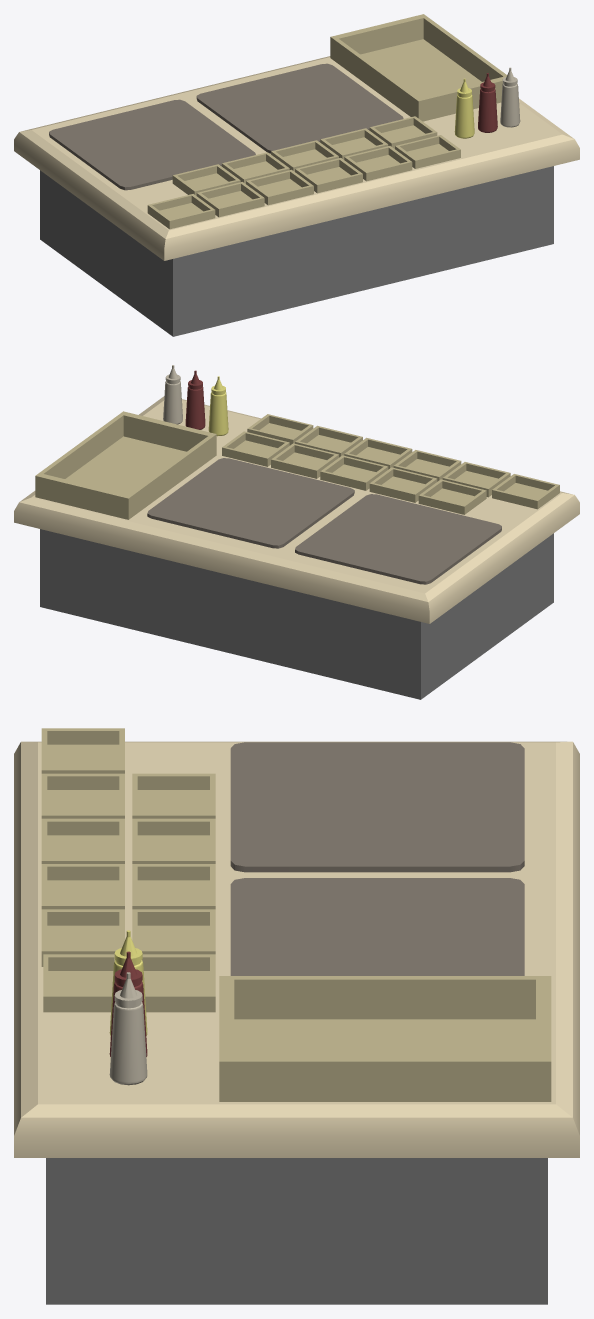
Rendered from obj_Mesa_preparacion.fbx.
3 renders of one model, top to bottom at view 1: azimuth 30°, elevation 25°; view 2: azimuth 150°, elevation 25°; view 3: azimuth 270°, elevation 25°, orthographic. The views are drawn at different scales.
Parts seen in each view (by area): view 1: mesa, contenedor_panes, tabla_preparacion1, tabla_preparacion, contenedor_misc10, contenedor_misc9, contenedor_misc3, contenedor_misc7, contenedor_misc5, contenedor_misc, contenedor_misc8, contenedor_misc1 (+6 smaller); view 2: mesa, contenedor_panes, tabla_preparacion, tabla_preparacion1, contenedor_misc8, contenedor_misc10, contenedor_misc6, contenedor_misc4, contenedor_misc2, contenedor_misc1, contenedor_misc9, contenedor_misc5 (+6 smaller); view 3: mesa, contenedor_panes, tabla_preparacion1, tabla_preparacion, contenedor_misc1, contenedor_misc, contenedor_misc4, contenedor_misc6, contenedor_misc8, contenedor_misc10, contenedor_misc5, contenedor_misc7 (+6 smaller).
Part boxes in pixels (left/top/right/bottom): mesa: left=14, top=56, right=579, bottom=336; contenedor_panes: left=330, top=14, right=507, bottom=121; tabla_preparacion1: left=49, top=99, right=255, bottom=190; tabla_preparacion: left=196, top=63, right=403, bottom=153; contenedor_misc10: left=147, top=194, right=215, bottom=229; contenedor_misc9: left=196, top=182, right=264, bottom=217; contenedor_misc3: left=344, top=146, right=412, bottom=181; contenedor_misc7: left=246, top=169, right=313, bottom=205; contenedor_misc5: left=295, top=158, right=362, bottom=193; contenedor_misc: left=395, top=135, right=460, bottom=168; contenedor_misc8: left=172, top=164, right=240, bottom=195; contenedor_misc1: left=369, top=116, right=437, bottom=148; mesa: left=14, top=396, right=579, bottom=699; contenedor_panes: left=35, top=411, right=216, bottom=519; tabla_preparacion: left=147, top=458, right=354, bottom=548; tabla_preparacion1: left=295, top=494, right=501, bottom=584; contenedor_misc8: left=418, top=479, right=486, bottom=514; contenedor_misc10: left=492, top=474, right=559, bottom=509; contenedor_misc6: left=369, top=467, right=437, bottom=502; contenedor_misc4: left=320, top=455, right=388, bottom=490; contenedor_misc2: left=271, top=443, right=338, bottom=478; contenedor_misc1: left=222, top=431, right=289, bottom=466; contenedor_misc9: left=442, top=462, right=510, bottom=497; contenedor_misc5: left=344, top=437, right=412, bottom=469; mesa: left=14, top=741, right=579, bottom=1304; contenedor_panes: left=219, top=976, right=551, bottom=1101; tabla_preparacion1: left=230, top=742, right=524, bottom=872; tabla_preparacion: left=230, top=878, right=524, bottom=975; contenedor_misc1: left=142, top=954, right=215, bottom=1012; contenedor_misc: left=43, top=954, right=114, bottom=1012; contenedor_misc4: left=132, top=864, right=215, bottom=909; contenedor_misc6: left=132, top=818, right=215, bottom=863; contenedor_misc8: left=132, top=773, right=215, bottom=818; contenedor_misc10: left=41, top=728, right=124, bottom=773; contenedor_misc5: left=41, top=864, right=124, bottom=909; contenedor_misc7: left=41, top=818, right=124, bottom=863.
Size of the model in its own units: 26.23 by 9.97 by 16.42.
